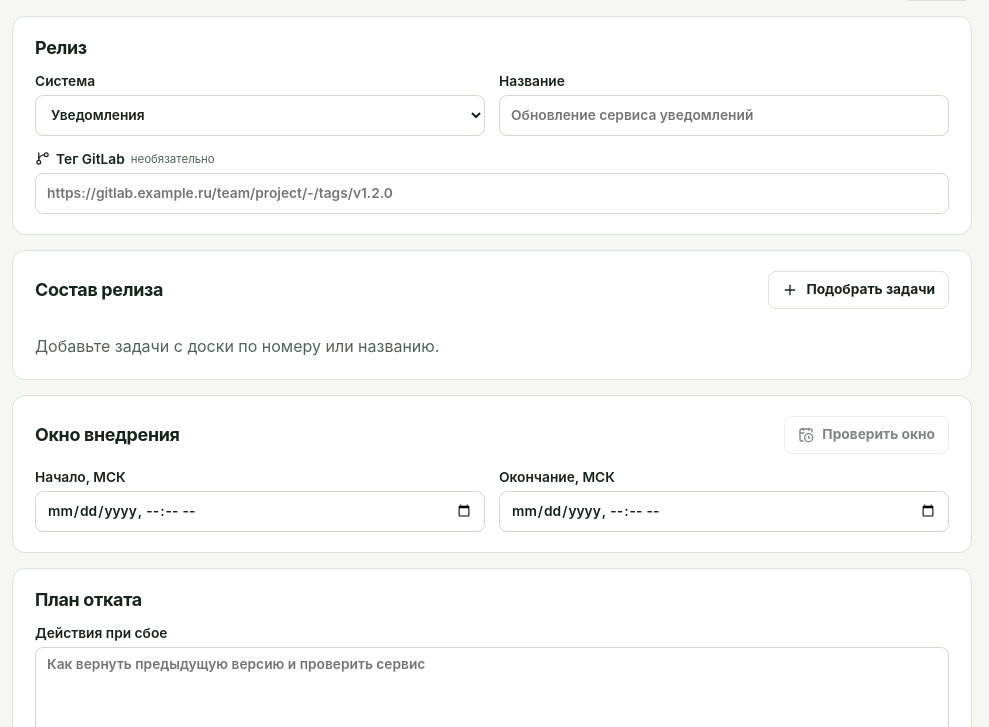
Неготовая задача добавляется в черновик после предупреждения
Step 1. Click the button "Подобрать задачи" → (859, 290), box [768,271,949,309]
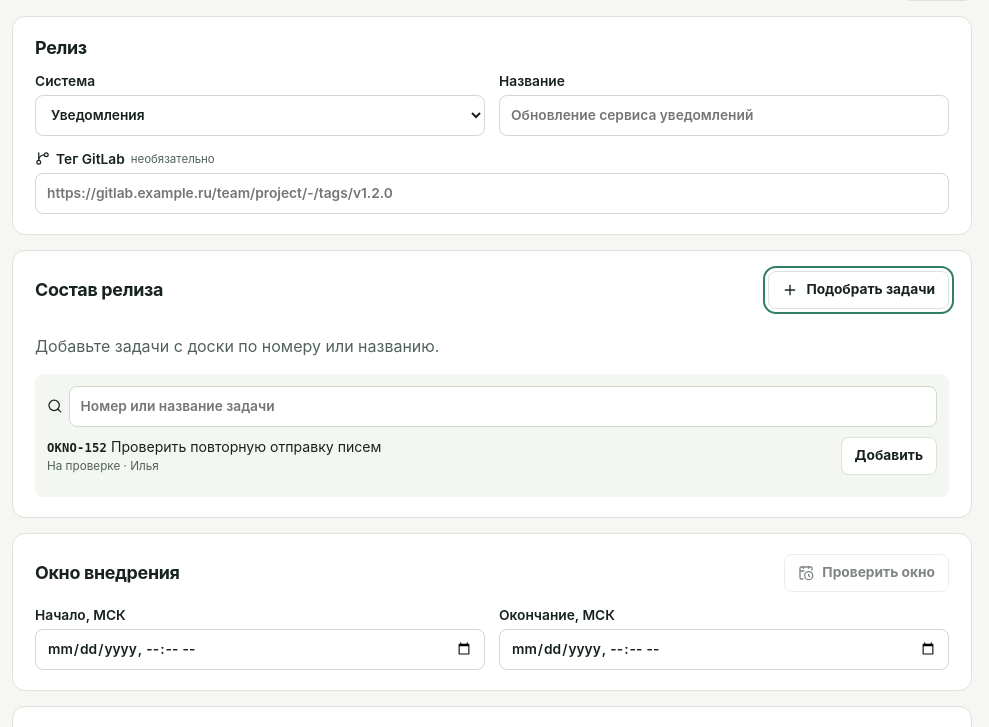
Step 2. Click the button with aria-label "Добавить OKNO-152" → (889, 456), box [840,437,937,475]
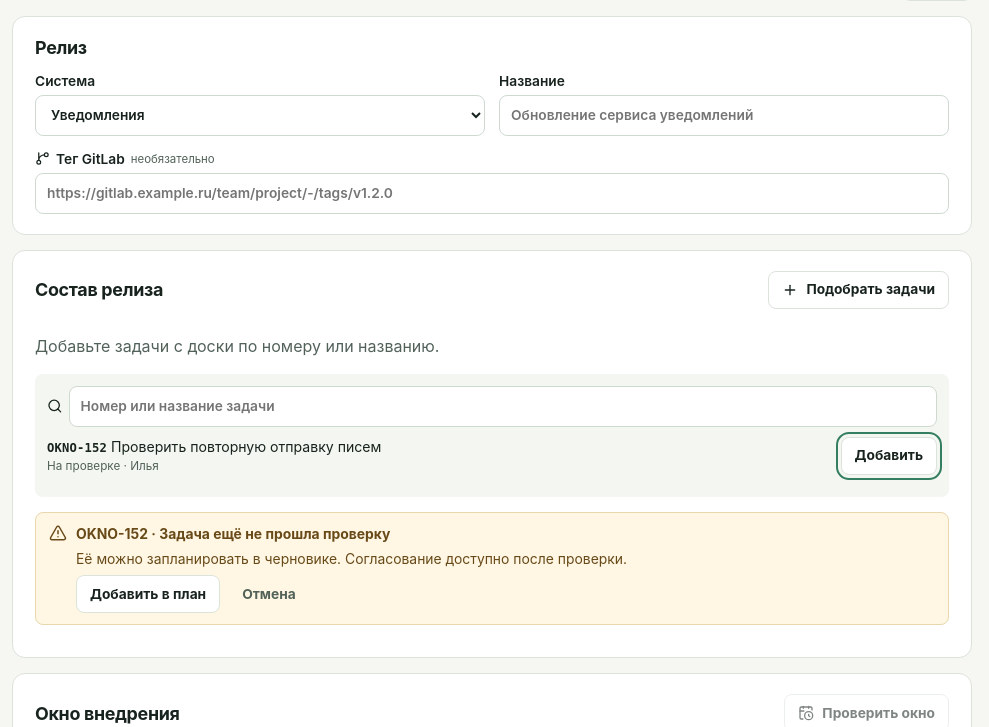
Result: the message shows "Задача ещё не прошла проверку" at [159,526,390,542]
Step 3. Click the button "Добавить в план" → (148, 594), box [76,576,220,614]
(page scrolled)
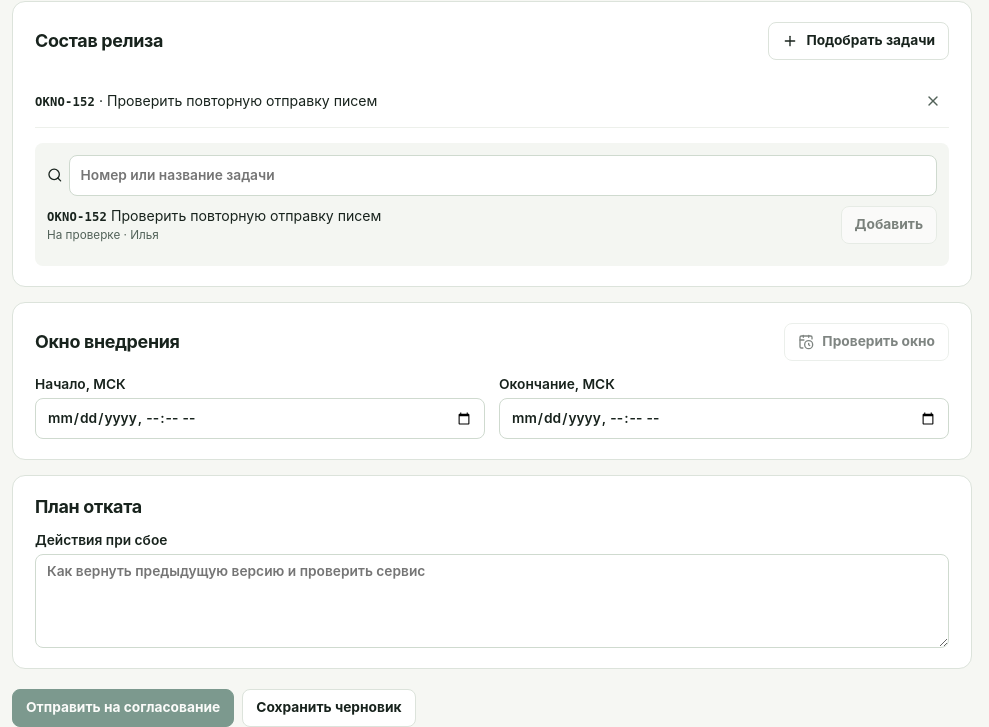
Expected: the button "Сохранить черновик" is enabled, [242,689,416,726]
Result: the button named "Удалить OKNO-152" is shown at [917,85,949,117]
